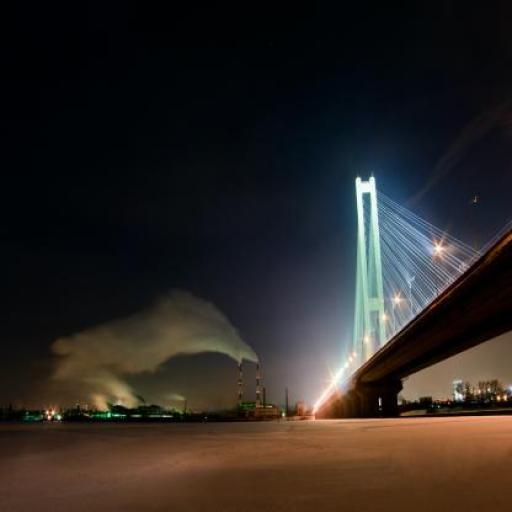street light: (469, 196, 479, 262), (432, 245, 441, 300), (409, 274, 416, 320), (392, 298, 400, 336), (381, 314, 386, 346), (363, 338, 369, 364)
